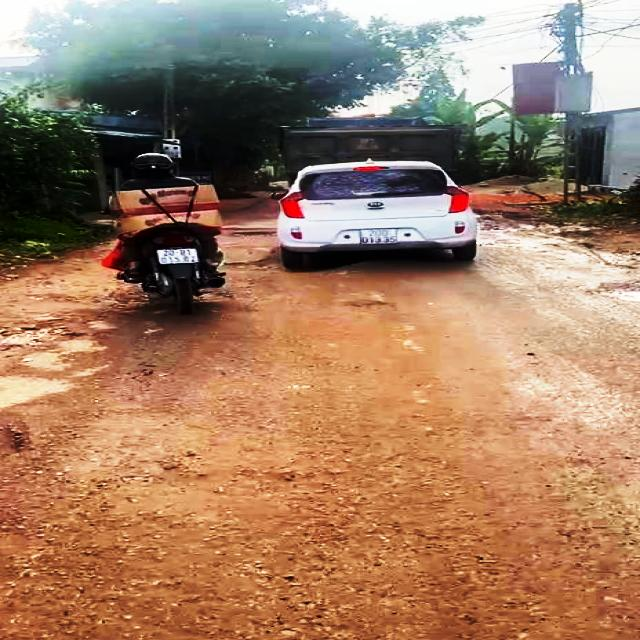pothole: (0, 322, 84, 351), (583, 282, 640, 304)
